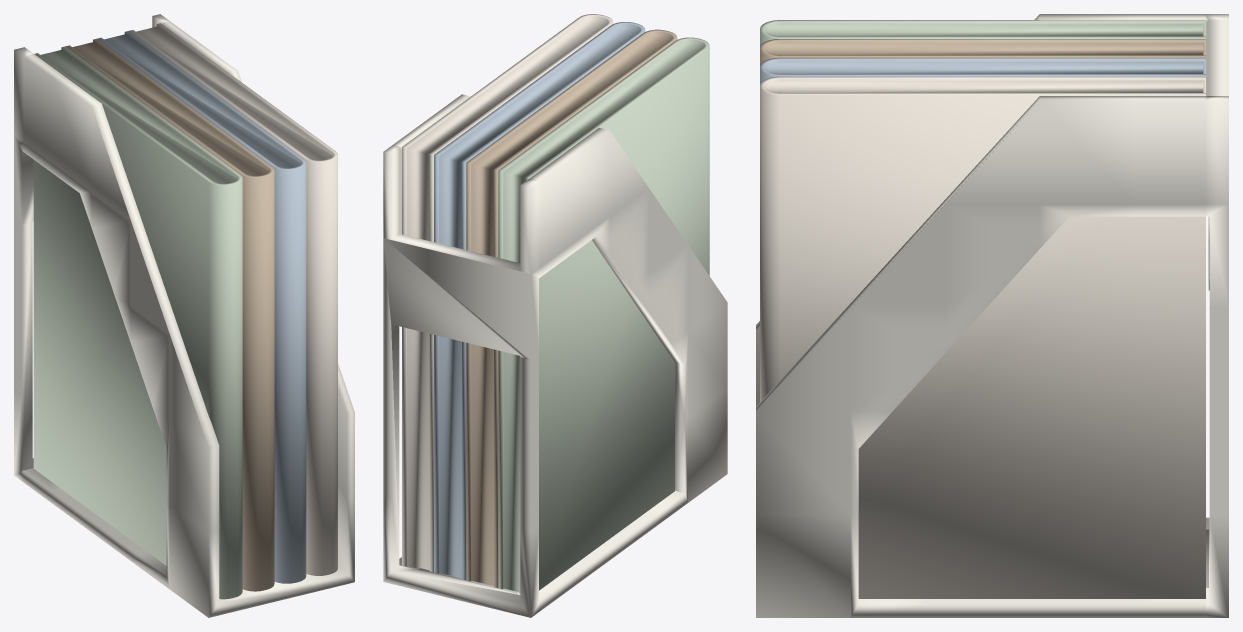
Rendered from book-stand.glb.
3 renders of one model, left to right at view 1: azimuth 30°, elevation 25°; view 2: azimuth 150°, elevation 25°; view 3: azimuth 270°, elevation 25°, orthographic. The views are drawn at different scales.
Visible parts, largest first — view 1: s-book-stand, Cube.001, k-book-stand, t-book-stand, n-book-stand; view 2: Cube.001, s-book-stand, t-book-stand, k-book-stand, n-book-stand; view 3: n-book-stand, Cube.001, k-book-stand, s-book-stand, t-book-stand.
Part boxes in pixels (x1=…): s-book-stand: x1=33, y1=46, x2=242, y2=599; Cube.001: x1=14, y1=14, x2=354, y2=617; k-book-stand: x1=97, y1=31, x2=306, y2=583; t-book-stand: x1=66, y1=38, x2=274, y2=591; n-book-stand: x1=129, y1=23, x2=337, y2=575; Cube.001: x1=383, y1=94, x2=727, y2=617; s-book-stand: x1=498, y1=37, x2=709, y2=593; t-book-stand: x1=466, y1=29, x2=677, y2=587; k-book-stand: x1=434, y1=22, x2=645, y2=580; n-book-stand: x1=402, y1=14, x2=613, y2=572; n-book-stand: x1=760, y1=76, x2=1205, y2=598; Cube.001: x1=756, y1=14, x2=1228, y2=617; k-book-stand: x1=760, y1=57, x2=1205, y2=84; s-book-stand: x1=760, y1=20, x2=1205, y2=46; t-book-stand: x1=760, y1=39, x2=1205, y2=65.
Bounding box in the file's own units: 0.46 × 1.28 × 1.06.
